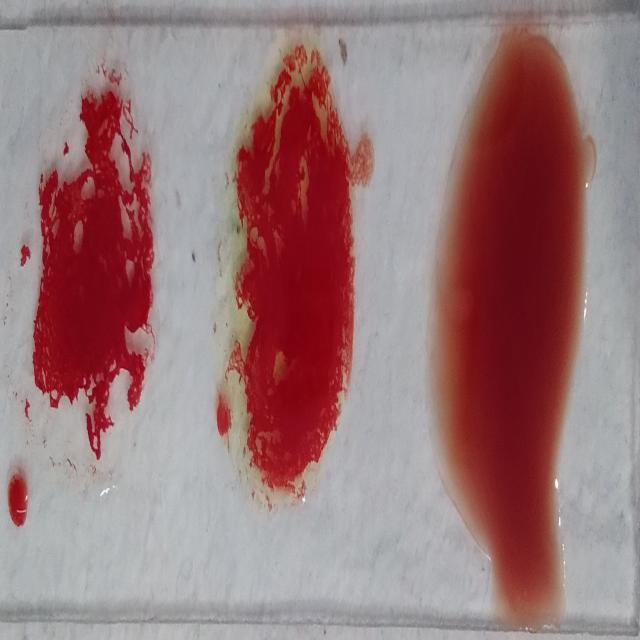B: (217, 35, 348, 529)
D: (33, 52, 158, 482)
